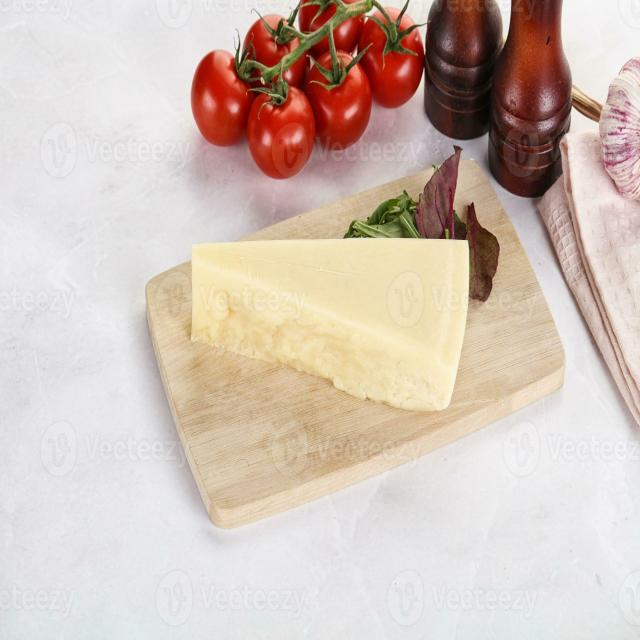Cheese: (173, 219, 477, 422)
